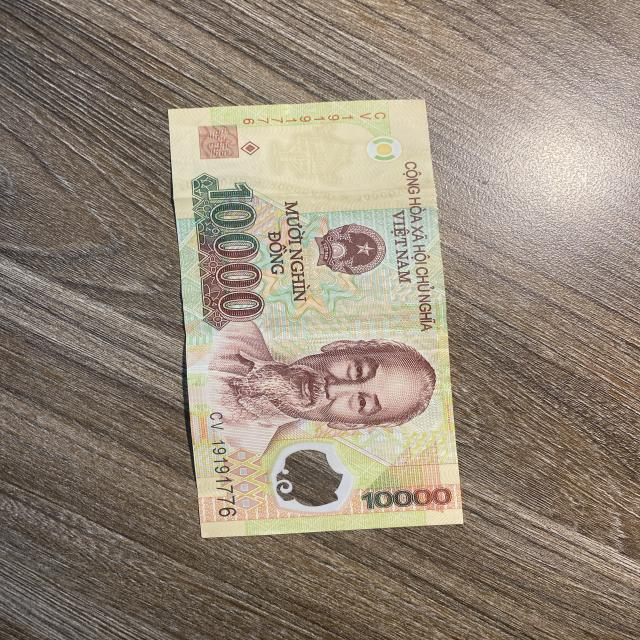10 000 VND: (165, 96, 467, 541)
